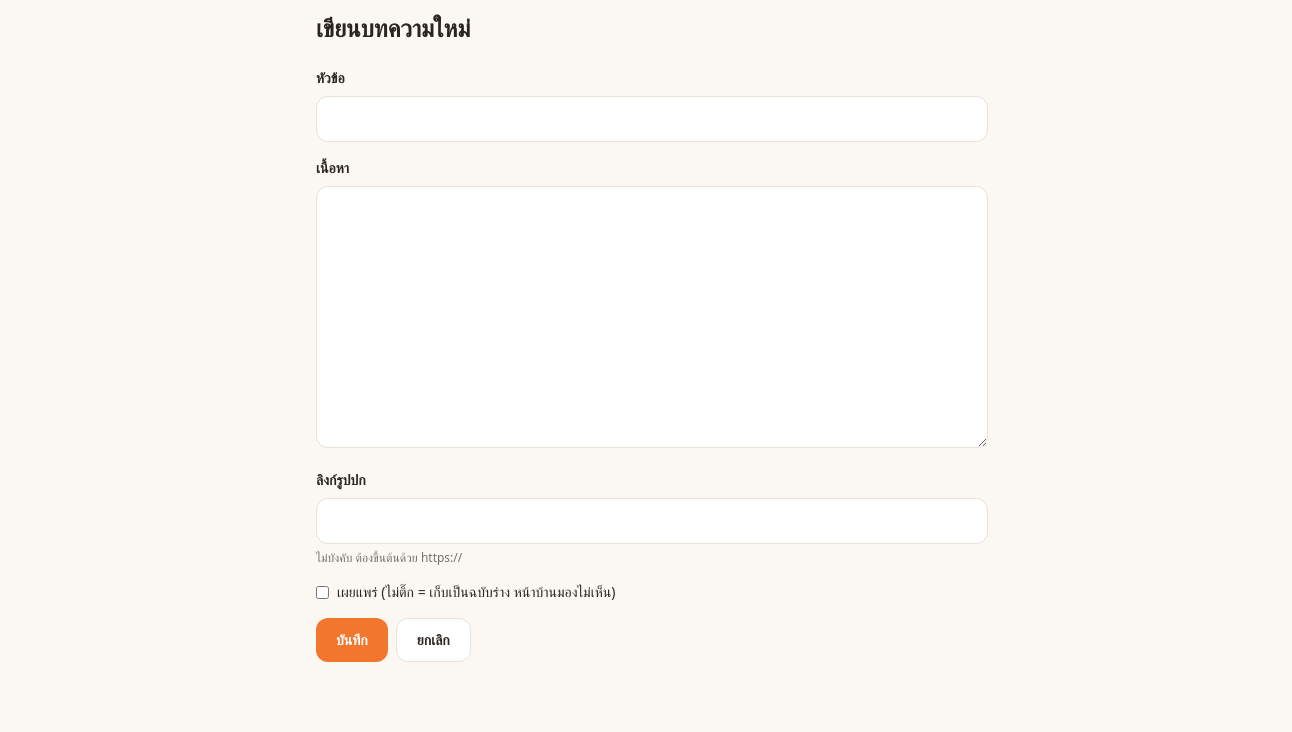
Test: เขียนบทความใหม่ ส่งค่าที่กรอกไป server แล้วกลับไปหน้ารายการพร้อมข้อความสำเร็จ
Type "ข่าวใหม่" into the field labelled "หัวข้อ" at (652, 119), box [316,96,988,142]
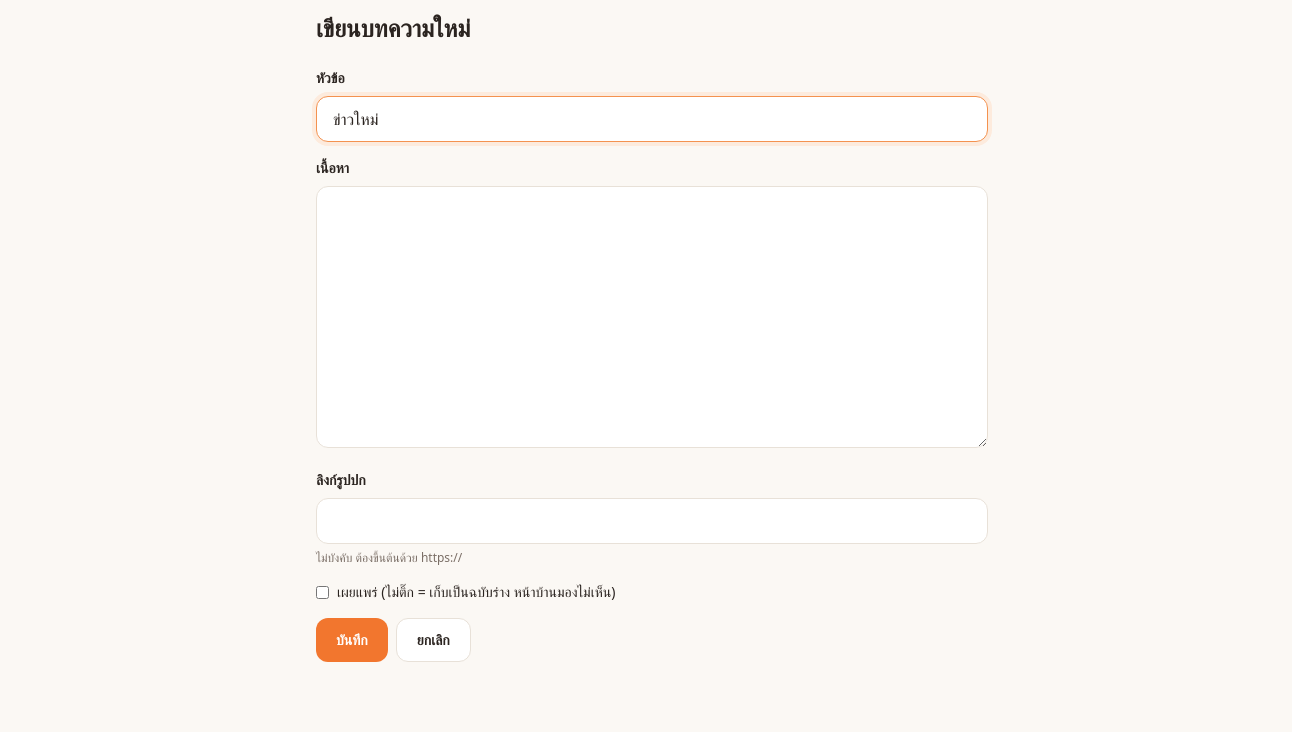
Type "รายละเอียด" into the text box labelled "เนื้อหา" at (652, 317), box [316,186,988,448]
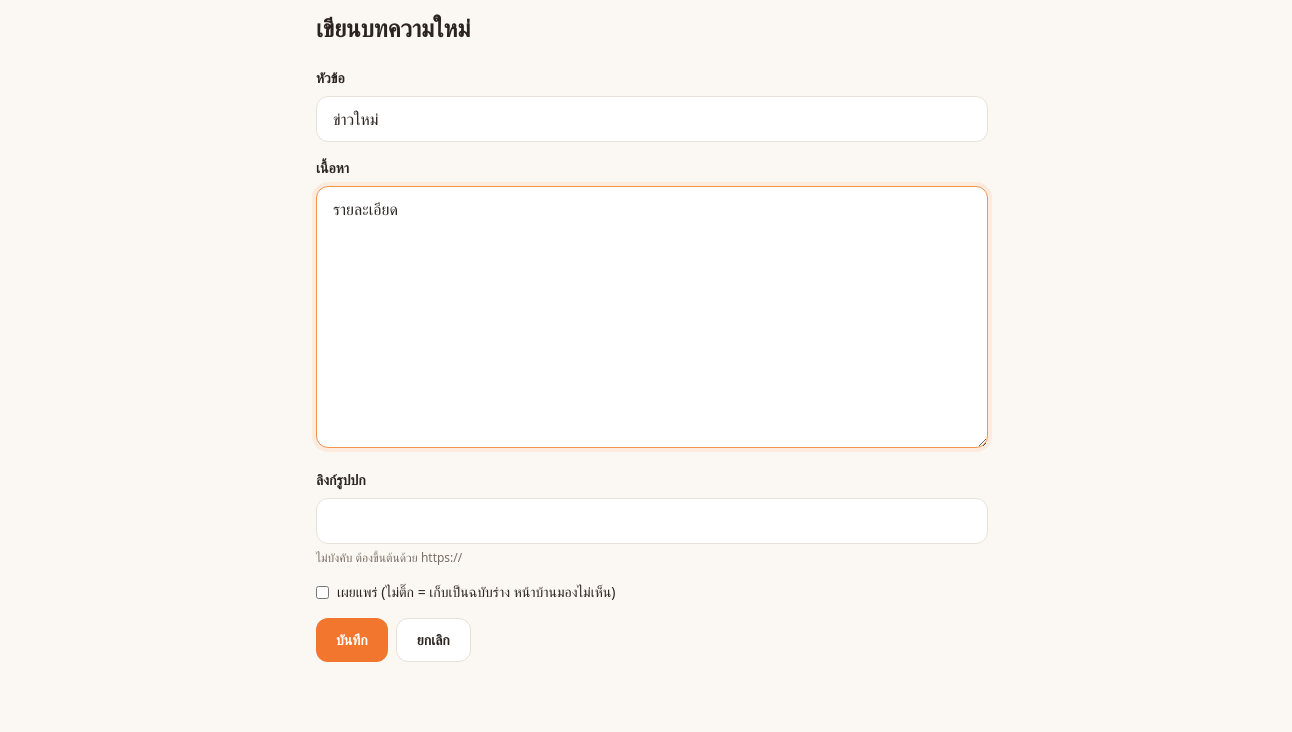
Click the checkbox at (322, 592), box [316,586,329,598]
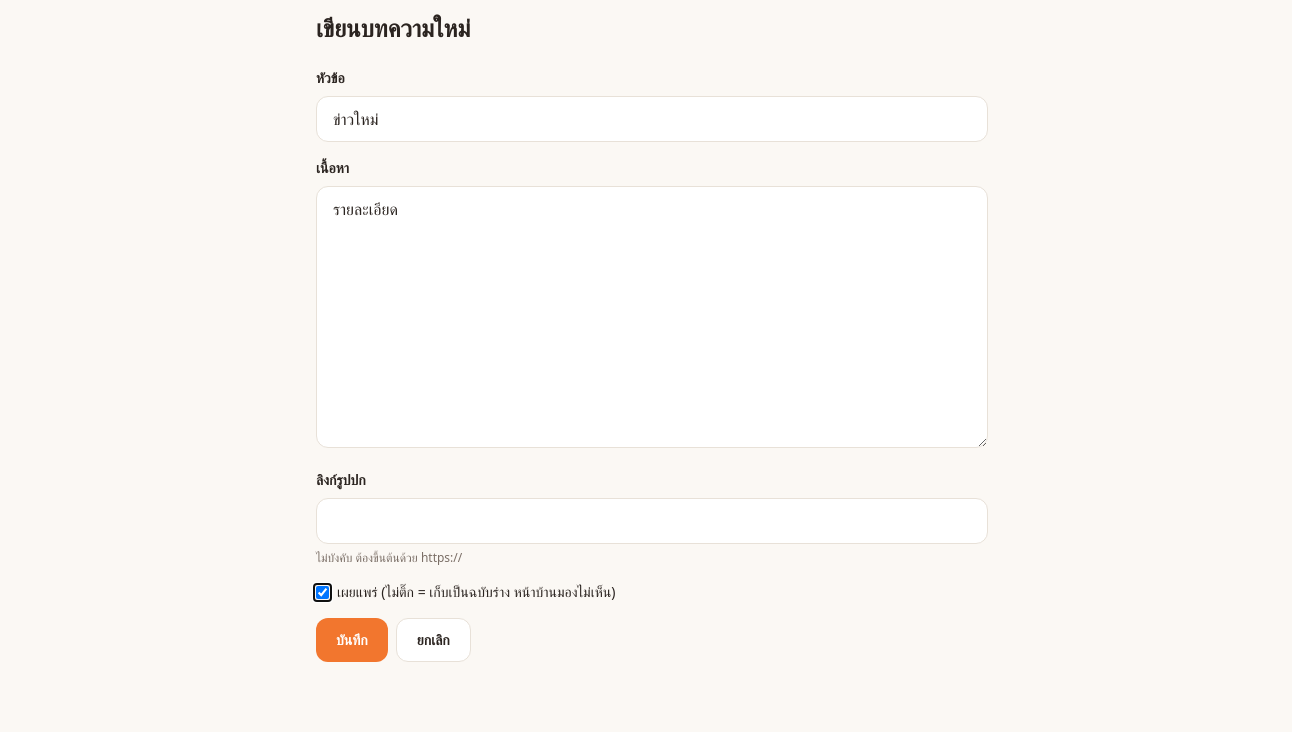
Click the button "บันทึก" at (352, 640), box [316,618,388,662]
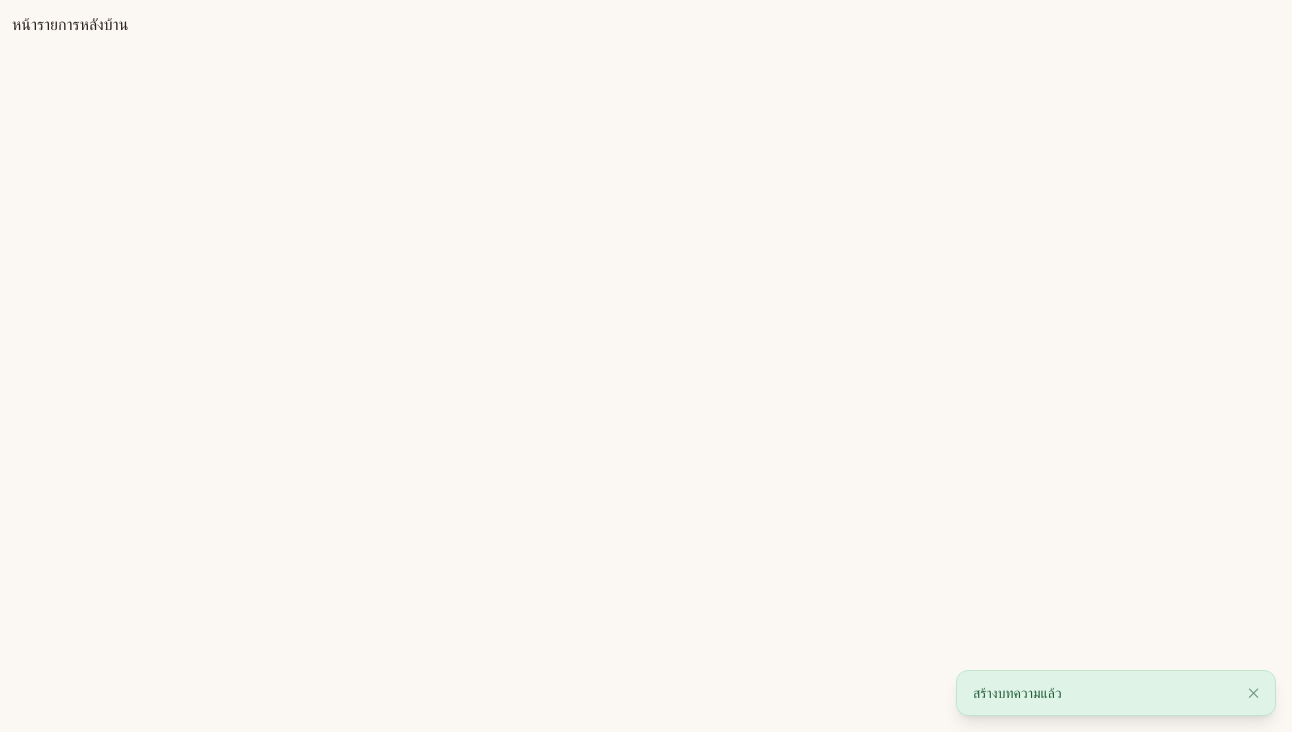
Expected: the text "หน้ารายการหลังบ้าน" is shown, [12,13,128,35]
Expected: the text "สร้างบทความแล้ว" is shown, [973,683,1062,702]
